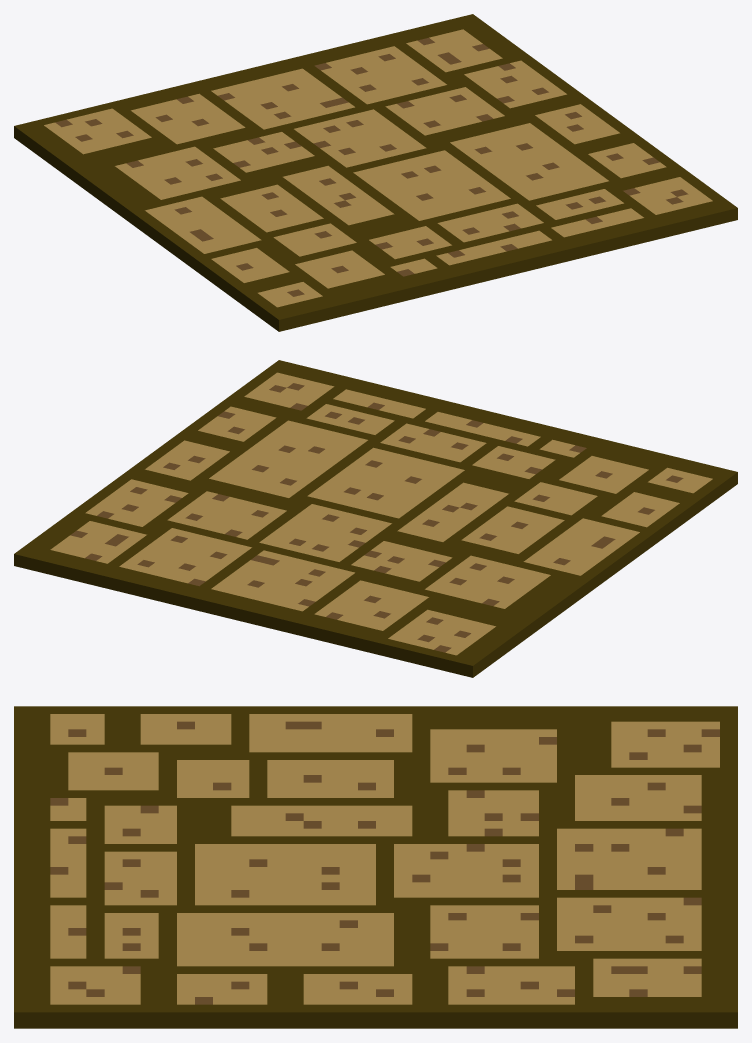
The model's file is platform.obj.
The picture shows the model from 3 angles, top to bottom: view 1: azimuth 30°, elevation 25°; view 2: azimuth 150°, elevation 25°; view 3: azimuth 270°, elevation 25°; orthographic projection. The views are drawn at different scales.
Bounding box in the file's own units: 4 × 0.1 × 4.
1 material, 1 textured.
